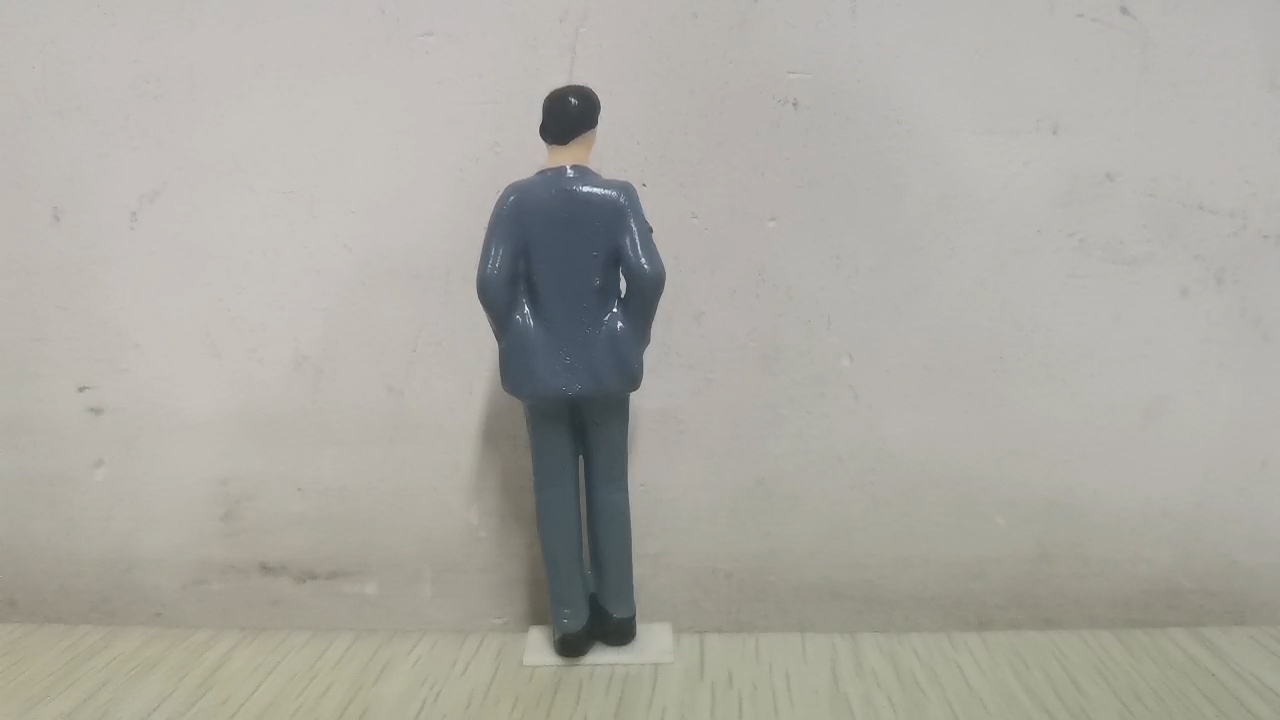person: (473, 82, 669, 658)
